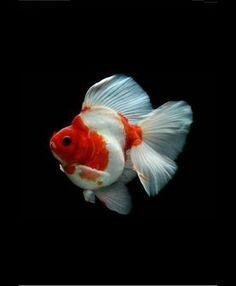goldfish: (45, 98, 161, 202)
